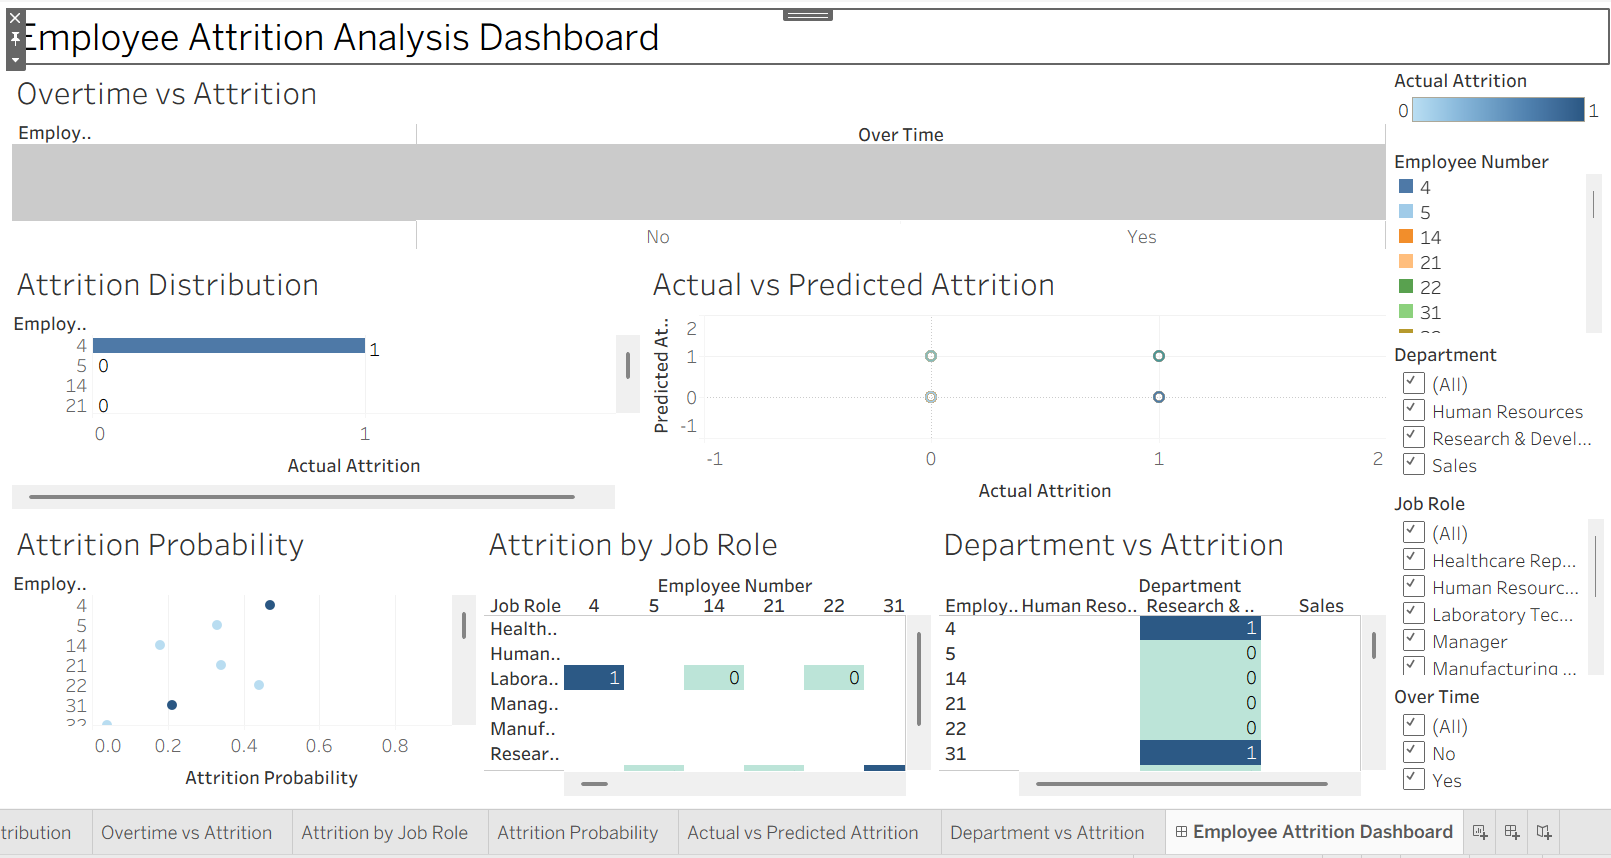

This screenshot's page, from the dashboard's own definition file:
{"tool":"tableau","page":{"name":"Employee Attrition Dashboard","canvas":[1000,1000],"units":"permille","ordinal":0},"visuals":[{"type":"title","box":[5,9.9,990,65.8]},{"type":"worksheet","title":"Overtime vs Attrition","mark":"Automatic","rows":["EmployeeNumber","Actual_Attrition"],"cols":["OverTime"],"box":[5,75.7,854.1,237.3]},{"type":"legend","title":"Overtime vs Attrition","param":"[federated.084q2ba0edv2o91785ca20g87ec3].[sum:Actual_Attrition:qk]","box":[859.1,75.7,135.9,100.5]},{"type":"legend","title":"Actual vs Predicted Attrition","param":"[federated.084q2ba0edv2o91785ca20g87ec3].[none:EmployeeNumber:ok]","box":[859.1,176.2,135.9,240.1]},{"type":"worksheet","title":"Attrition Distribution","mark":"Automatic","rows":["EmployeeNumber"],"cols":["Actual_Attrition"],"box":[5,313,393.1,321.8]},{"type":"worksheet","title":"Actual vs Predicted Attrition","mark":"Automatic","rows":["Predicted_Attrition"],"cols":["Actual_Attrition"],"box":[398,313,461.1,321.8]},{"type":"filter","title":"Department vs Attrition","param":"[federated.084q2ba0edv2o91785ca20g87ec3].[none:Department:nk]","box":[859.1,416.2,135.9,183.6]},{"type":"filter","title":"Attrition by Job Role","param":"[federated.084q2ba0edv2o91785ca20g87ec3].[none:JobRole:nk]","box":[859.1,599.9,135.9,240.1]},{"type":"worksheet","title":"Attrition Probability","mark":"Circle","rows":["EmployeeNumber"],"cols":["Attrition_Probability"],"box":[5,634.8,291.8,355.3]},{"type":"worksheet","title":"Attrition by Job Role","mark":"Automatic","rows":["JobRole"],"cols":["EmployeeNumber"],"box":[296.8,634.8,281.1,355.3]},{"type":"worksheet","title":"Department vs Attrition","mark":"Square","rows":["EmployeeNumber"],"cols":["Department"],"box":[578,634.8,281.2,355.3]},{"type":"filter","title":"Overtime vs Attrition","param":"[federated.084q2ba0edv2o91785ca20g87ec3].[none:OverTime:nk]","box":[859.1,839.9,135.9,150.1]}]}

Visuals, with their boxes on the dashboard's canvas, which has no fixed pixel size, in thousandths of its width and height (x1, y1, x2, y2). These are canvas units, not pixel positions in the 1611x858 screenshot, which may show the page scaled, cropped or inside an application window:
title: 5, 10, 995, 76
"Overtime vs Attrition" worksheet: 5, 76, 859, 313
"Overtime vs Attrition" legend: 859, 76, 995, 176
"Actual vs Predicted Attrition" legend: 859, 176, 995, 416
"Attrition Distribution" worksheet: 5, 313, 398, 635
"Actual vs Predicted Attrition" worksheet: 398, 313, 859, 635
"Department vs Attrition" filter: 859, 416, 995, 600
"Attrition by Job Role" filter: 859, 600, 995, 840
"Attrition Probability" worksheet (Circle marks): 5, 635, 297, 990
"Attrition by Job Role" worksheet: 297, 635, 578, 990
"Department vs Attrition" worksheet (Square marks): 578, 635, 859, 990
"Overtime vs Attrition" filter: 859, 840, 995, 990
